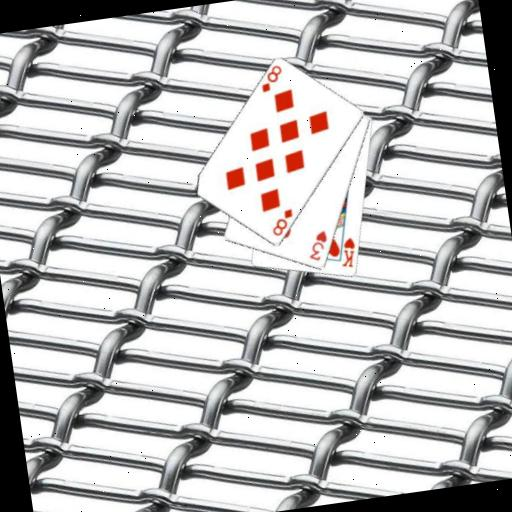3H: (303, 227, 331, 264)
8D: (267, 205, 297, 239), (256, 62, 286, 95)
KH: (335, 234, 360, 271)
